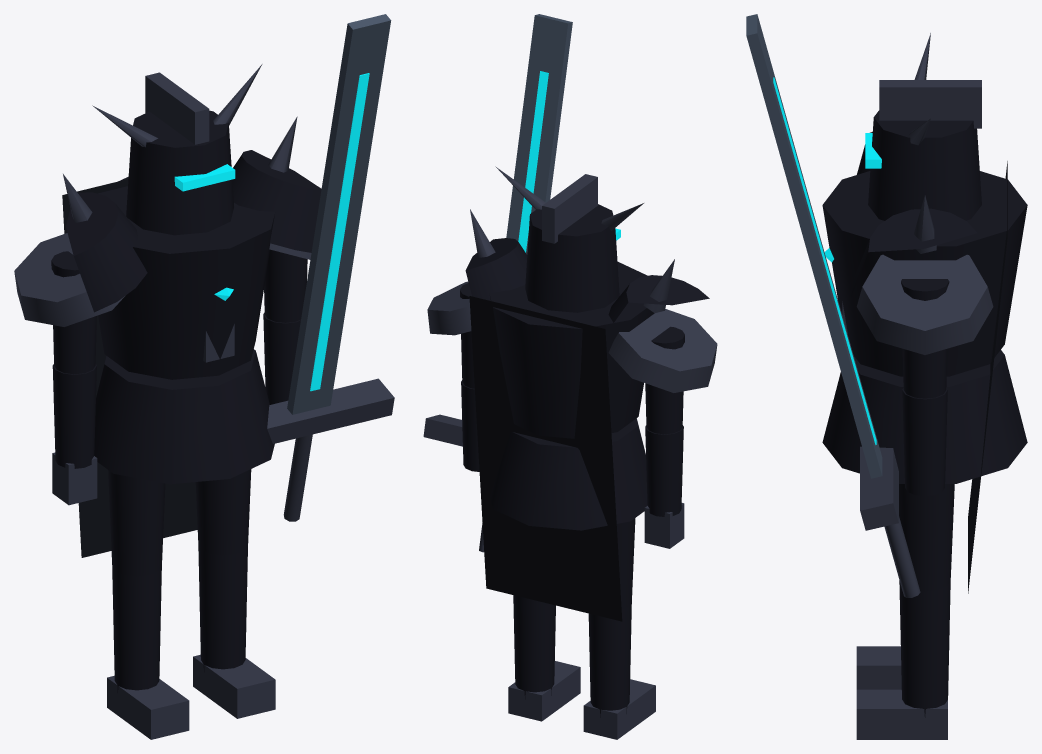
Rendered from blood_knight.glb.
3 views of the same model, side by side, from view 1: azimuth 30°, elevation 25°; view 2: azimuth 150°, elevation 25°; view 3: azimuth 270°, elevation 25° (orthographic). The views are drawn at different scales.
Size of the model in its own units: 1.74 by 3.49 by 1.2.
